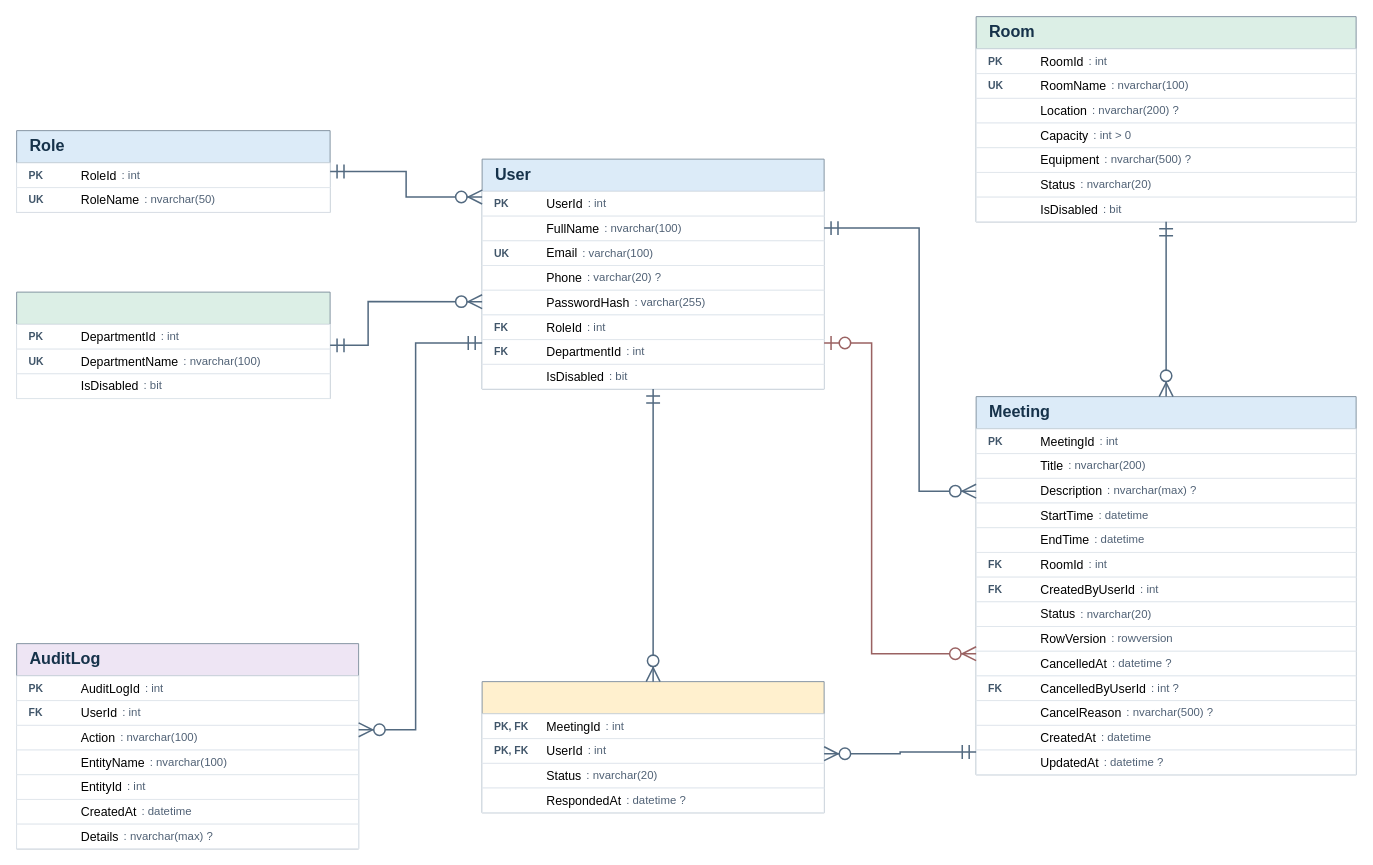
Some shapes in this 1373 by 865 pixel diagram are drawn without their labels. Here are the shapes that lost their labels. From the top down, the box of each, then its label:
(16, 291, 330, 399): Department Phòng ban
(481, 681, 824, 813): MeetingParticipant
